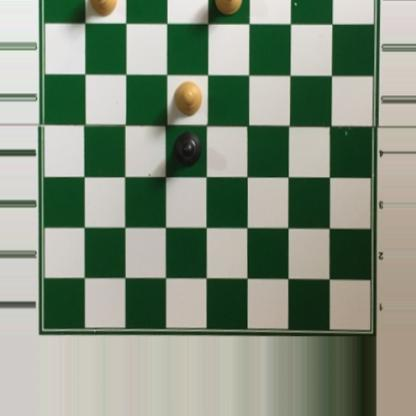black-pawn: (171, 130, 203, 169)
white-pawn: (172, 80, 202, 117), (213, 0, 243, 18), (87, 0, 117, 16)
